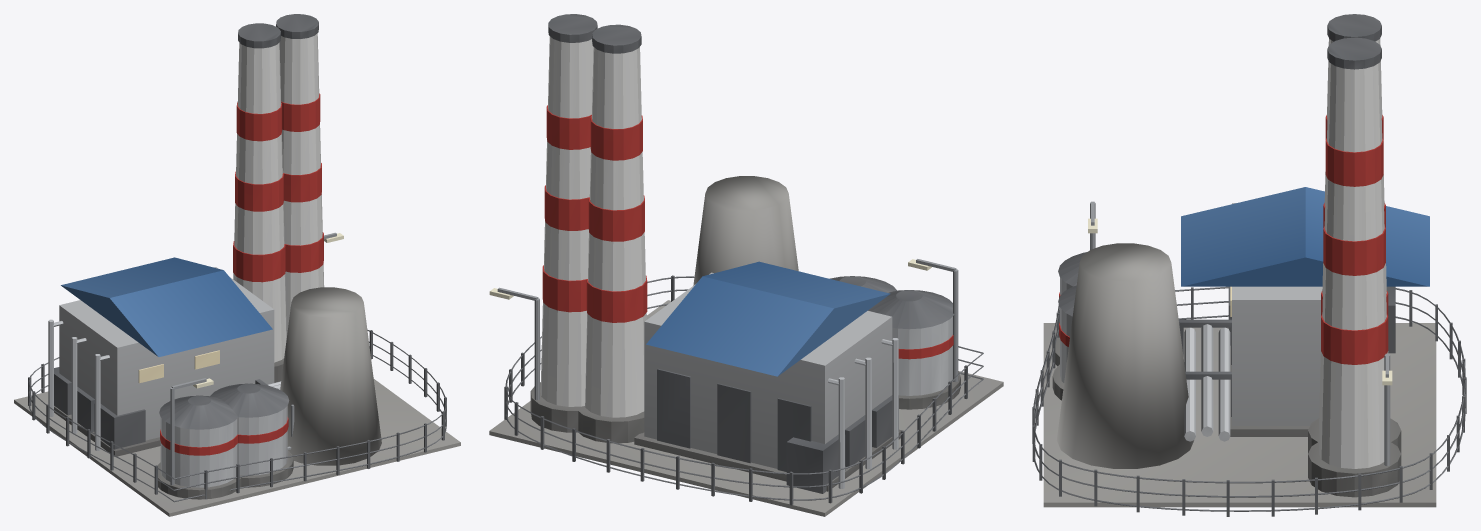
The model's file is Power_P2.fbx.
3 renders of one model, left to right at view 1: azimuth 30°, elevation 25°; view 2: azimuth 150°, elevation 25°; view 3: azimuth 270°, elevation 25°, orthographic. The views are drawn at different scales.
Parts seen in each view (by area): view 1: Power.Hall, Power.CoolingTowers, Power.Stack0, Power.Stack1, Power.Yard, Power.Tank0, Power.Tank1, Power.Fence, Power.Switchyard, Power.Lamp0; view 2: Power.Hall, Power.Stack0, Power.Stack1, Power.Yard, Power.CoolingTowers, Power.Tank0, Power.Switchyard, Power.Fence, Power.Lamp0, Power.Lamp1; view 3: Power.Hall, Power.Stack1, Power.Yard, Power.CoolingTowers, Power.Fence, Power.Pipes, Power.Stack0, Power.Tank1, Power.Lamp1, Power.Tank0, Power.Switchyard.
Part boxes in pixels (x1,y1,x2,y2): Power.Hall: (54,257,274,456); Power.CoolingTowers: (280,287,381,465); Power.Stack0: (233,23,286,382); Power.Stack1: (276,14,324,337); Power.Yard: (14,379,460,516); Power.Tank0: (157,395,241,499); Power.Tank1: (210,383,294,487); Power.Fence: (28,329,446,502); Power.Switchyard: (48,319,145,450); Power.Lamp0: (170,378,213,485); Power.Hall: (634,261,901,491); Power.Stack0: (578,24,647,443); Power.Stack1: (530,14,597,432); Power.Yard: (489,300,1003,516); Power.CoolingTowers: (693,176,798,285); Power.Tank0: (868,290,960,409); Power.Switchyard: (786,338,898,493); Power.Fence: (504,275,983,505); Power.Lamp0: (908,259,958,381); Power.Lamp1: (489,287,539,400); Power.Hall: (1181,187,1429,436); Power.Stack1: (1308,37,1401,497); Power.Yard: (1043,323,1436,507); Power.CoolingTowers: (1057,243,1193,468); Power.Fence: (1032,286,1466,516); Power.Pipes: (1178,319,1231,441); Power.Stack0: (1308,14,1401,453); Power.Tank1: (1052,285,1076,400); Power.Lamp1: (1382,353,1392,466); Power.Tank0: (1055,252,1086,366); Power.Switchyard: (1228,286,1395,353).
Bounding box in the file's own units: 2895 × 2921 × 2653.
